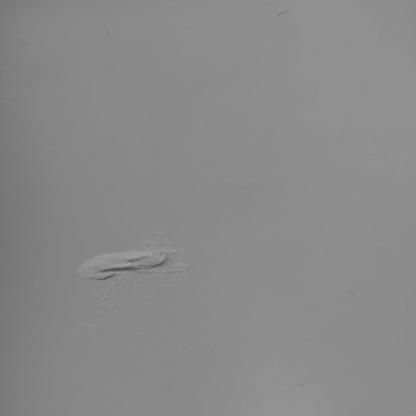sunshang: (80, 247, 179, 279)
